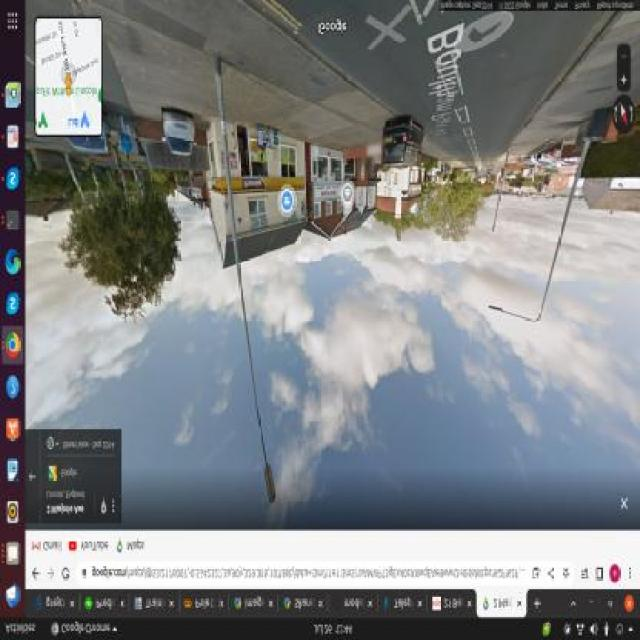pole: (210, 44, 281, 496), (531, 132, 583, 338), (489, 148, 514, 235)
